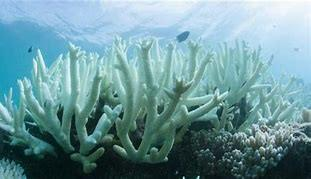bleached_corals: (15, 22, 242, 179), (203, 32, 309, 136), (0, 87, 56, 171)
